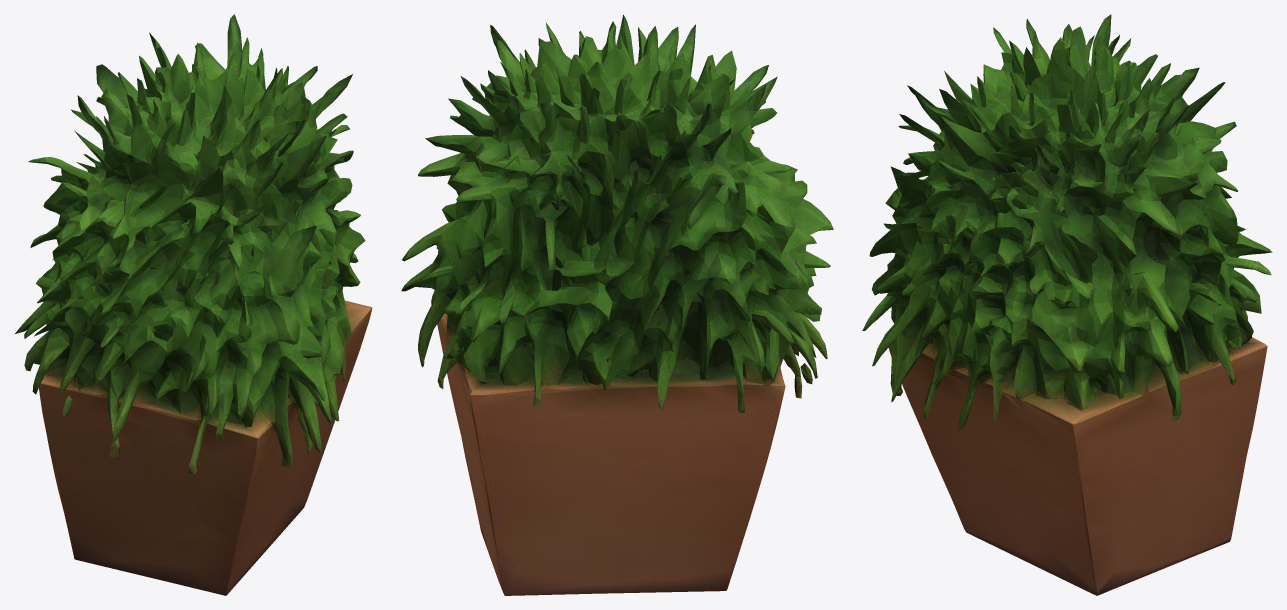
Rendered from large_potted_plant_on_floor_000.glb.
The picture shows the model from 3 angles, left to right: view 1: azimuth 30°, elevation 25°; view 2: azimuth 150°, elevation 25°; view 3: azimuth 270°, elevation 25°; orthographic projection. The views are drawn at different scales.
Parts seen in each view (by area): view 1: large_potted_plant_on_floor_000.obj; view 2: large_potted_plant_on_floor_000.obj; view 3: large_potted_plant_on_floor_000.obj.
Part boxes in pixels (<box>): large_potted_plant_on_floor_000.obj: <box>15,14,372,595</box>; large_potted_plant_on_floor_000.obj: <box>401,14,833,595</box>; large_potted_plant_on_floor_000.obj: <box>862,14,1272,595</box>.
Size of the model in its own units: 0.2563 by 0.3328 by 0.2537.
Materials: 1 (1 with a texture image).
